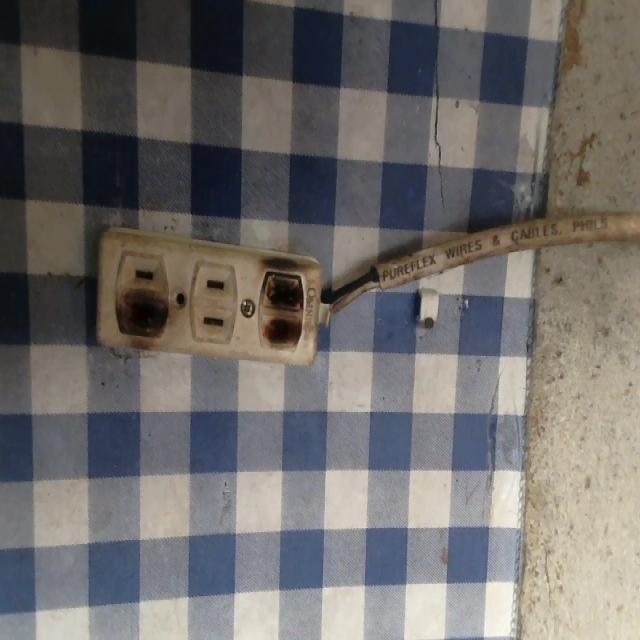-: (257, 249, 314, 360), (105, 284, 171, 345)
